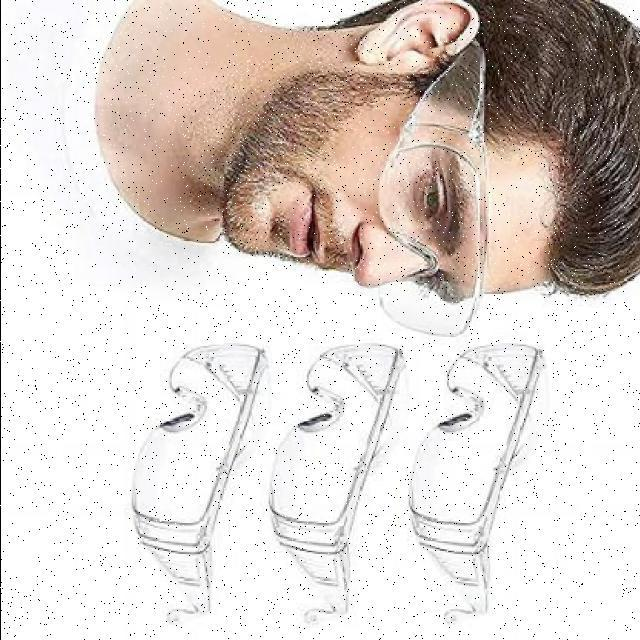Goggles: (331, 16, 499, 345)
